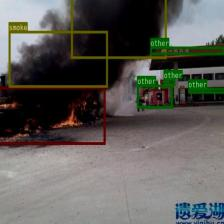fire: (0, 87, 105, 144)
smoke: (9, 30, 108, 87), (71, 0, 166, 58)
